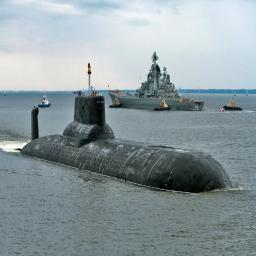submarine: (17, 62, 240, 197)
